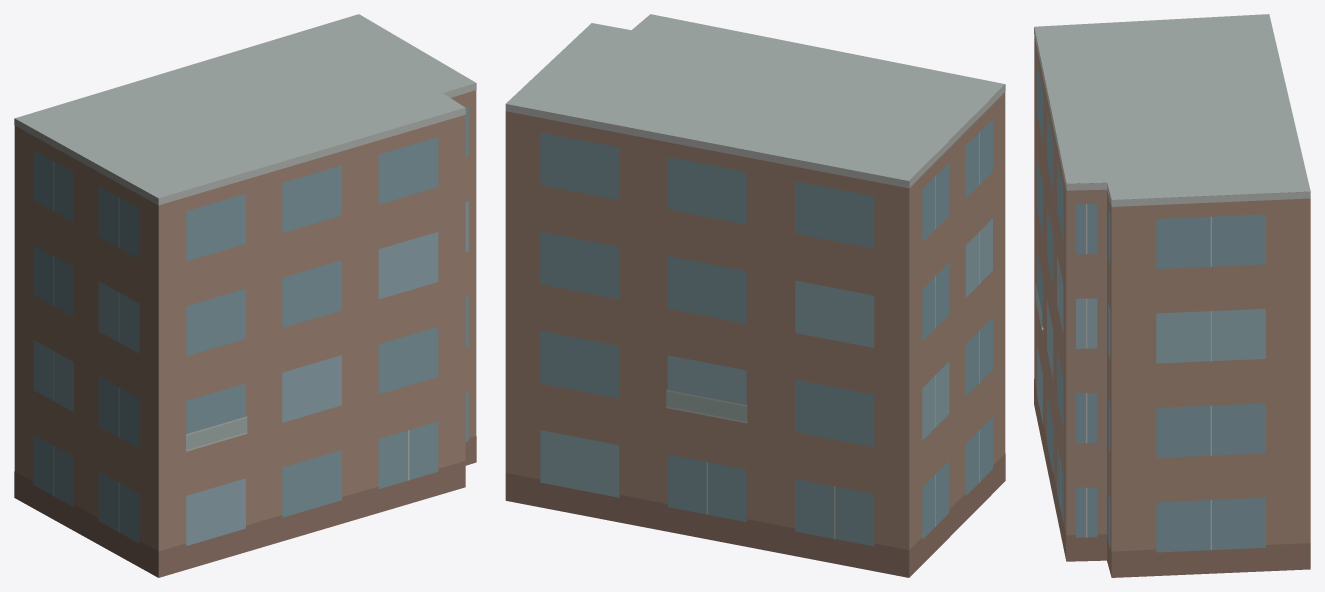
Rendered from survey-upis-33017274.glb.
3 views of the same model, side by side, from view 1: azimuth 30°, elevation 25°; view 2: azimuth 150°, elevation 25°; view 3: azimuth 270°, elevation 25° (orthographic). The views are drawn at different scales.
Visible parts, largest first — view 1: survey-upis-33017274.tmp; view 2: survey-upis-33017274.tmp; view 3: survey-upis-33017274.tmp.
Boxes of the visible parts, <box> form: survey-upis-33017274.tmp: <box>14,14,476,577</box>; survey-upis-33017274.tmp: <box>505,14,1005,577</box>; survey-upis-33017274.tmp: <box>1034,14,1310,577</box>.
Size of the model in its own units: 13.94 by 13.2 by 8.77.
